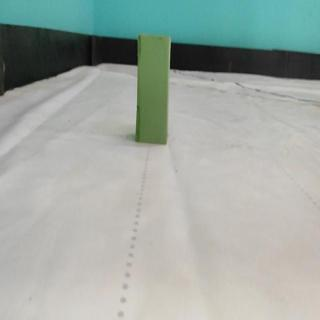greenbox: (135, 34, 172, 146)
